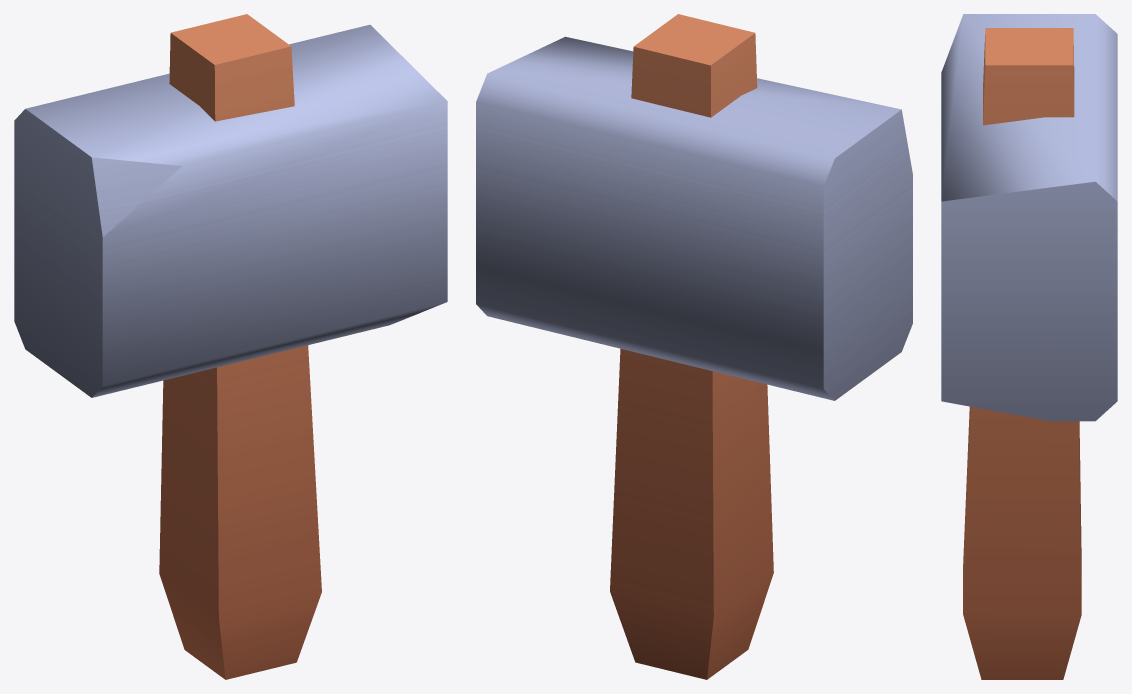
The model's file is cc0-tool-hammer-lod1.glb.
3 views of the same model, side by side, from view 1: azimuth 30°, elevation 25°; view 2: azimuth 150°, elevation 25°; view 3: azimuth 270°, elevation 25° (orthographic).
Parts seen in each view (by area): view 1: part_0; view 2: part_0; view 3: part_0.
Part boxes in pixels (x1,y1,x2,y2): part_0: (14,14,447,679); part_0: (476,14,912,679); part_0: (941,14,1117,679).
Size of the model in its own units: 0.09 by 0.1535 by 0.04.
Materials: 1 (1 with a texture image).
